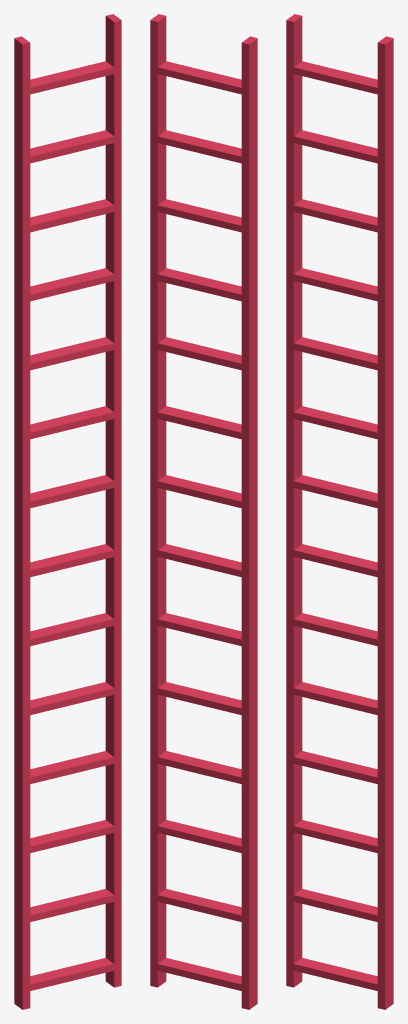
Rendered from ladder.glb.
The picture shows the model from 3 angles, left to right: view 1: azimuth 30°, elevation 25°; view 2: azimuth 150°, elevation 25°; view 3: azimuth 330°, elevation 25°; orthographic projection.
Parts seen in each view (by area): view 1: Ladder; view 2: Ladder; view 3: Ladder.
Boxes of the visible parts, x1=… form: Ladder: x1=14, y1=14, x2=121, y2=1009; Ladder: x1=150, y1=14, x2=257, y2=1009; Ladder: x1=286, y1=14, x2=393, y2=1009.
Bounding box in the file's own units: 0.4059 × 3.78 × 0.0602.
